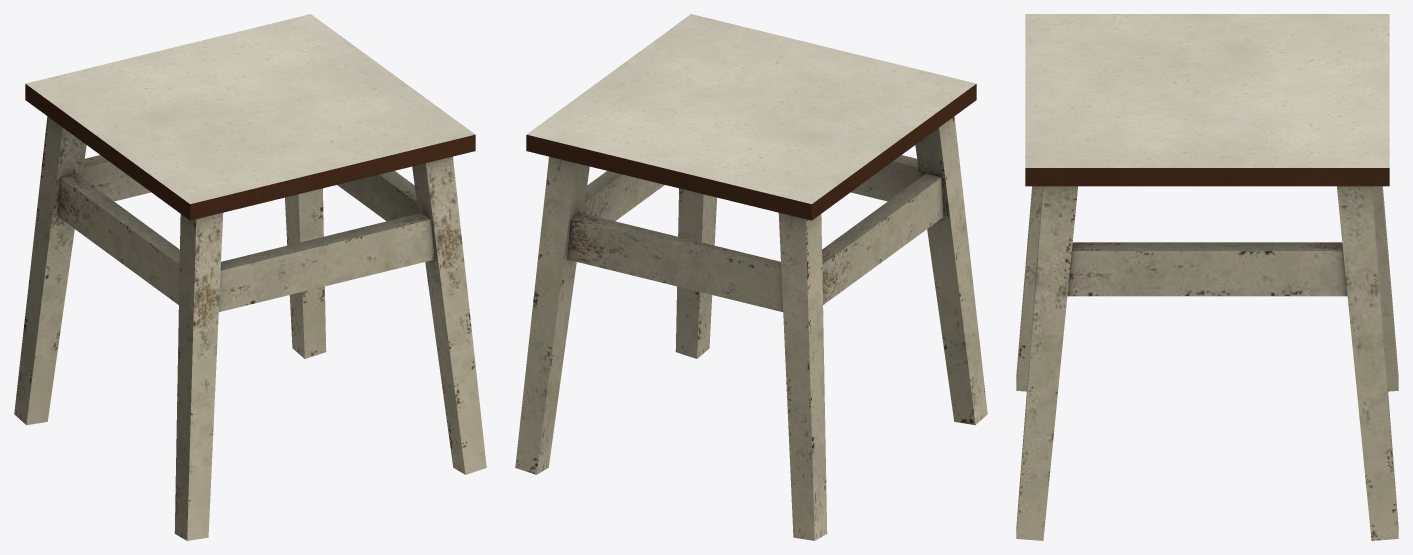
Rendered from stool_cream_lod1_web.glb.
3 views of the same model, side by side, from view 1: azimuth 30°, elevation 25°; view 2: azimuth 150°, elevation 25°; view 3: azimuth 270°, elevation 25° (orthographic). The views are drawn at different scales.
Parts seen in each view (by area): view 1: StoolCream_Mesh; view 2: StoolCream_Mesh; view 3: StoolCream_Mesh.
Part boxes in pixels (left/top/right/bottom): StoolCream_Mesh: left=14, top=14, right=486, bottom=540; StoolCream_Mesh: left=515, top=14, right=987, bottom=540; StoolCream_Mesh: left=1016, top=14, right=1398, bottom=540.
Size of the model in its own units: 0.4201 by 0.4495 by 0.4199.
Materials: 1 (1 with a texture image).
